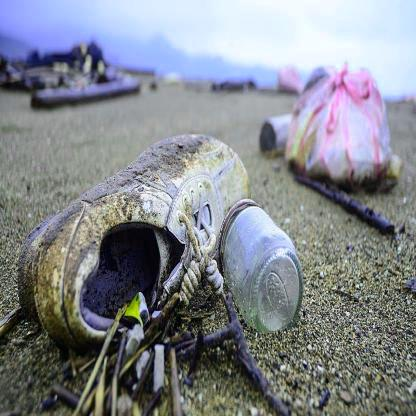Glass: (219, 189, 307, 339)
Plastic: (13, 128, 249, 342), (285, 63, 402, 194)
